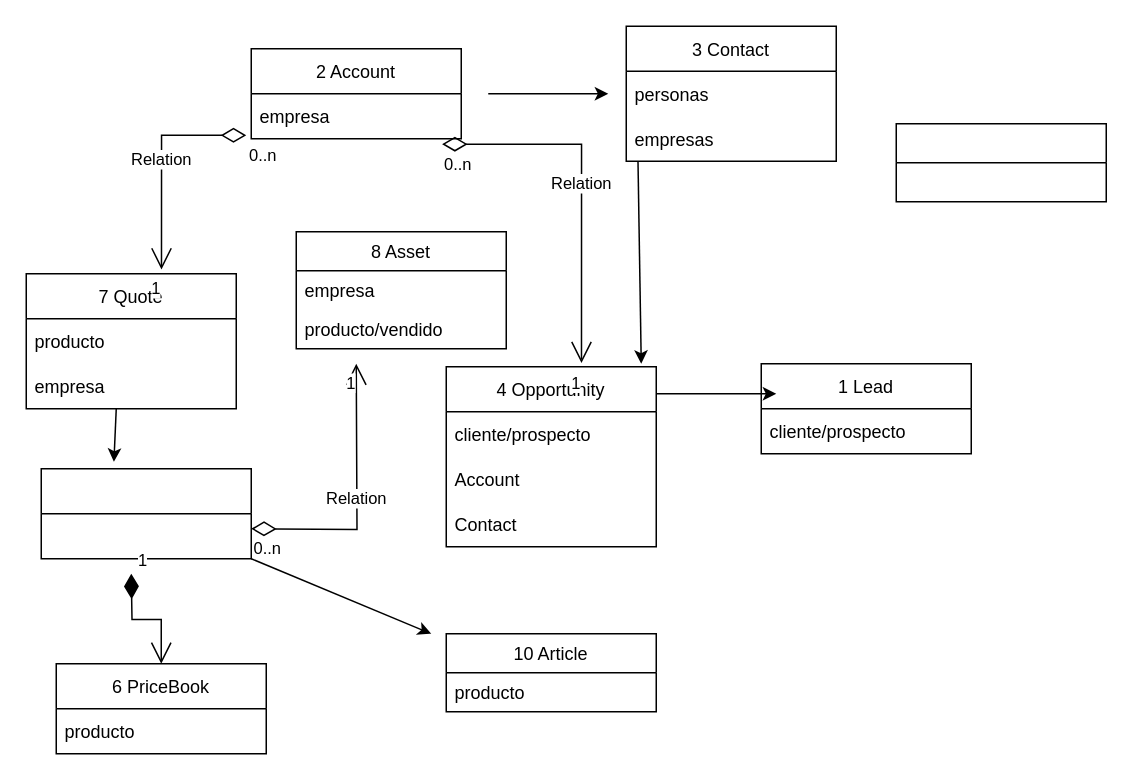
The diagram is 1133 pixels wide and 780 high, and some of its shapes have lost their labels. Here are the shapes that lost their labels. From the top down, the centre of each, then its label:
At point 1000,162: "9 Case".
At point 145,513: "5 Product".
